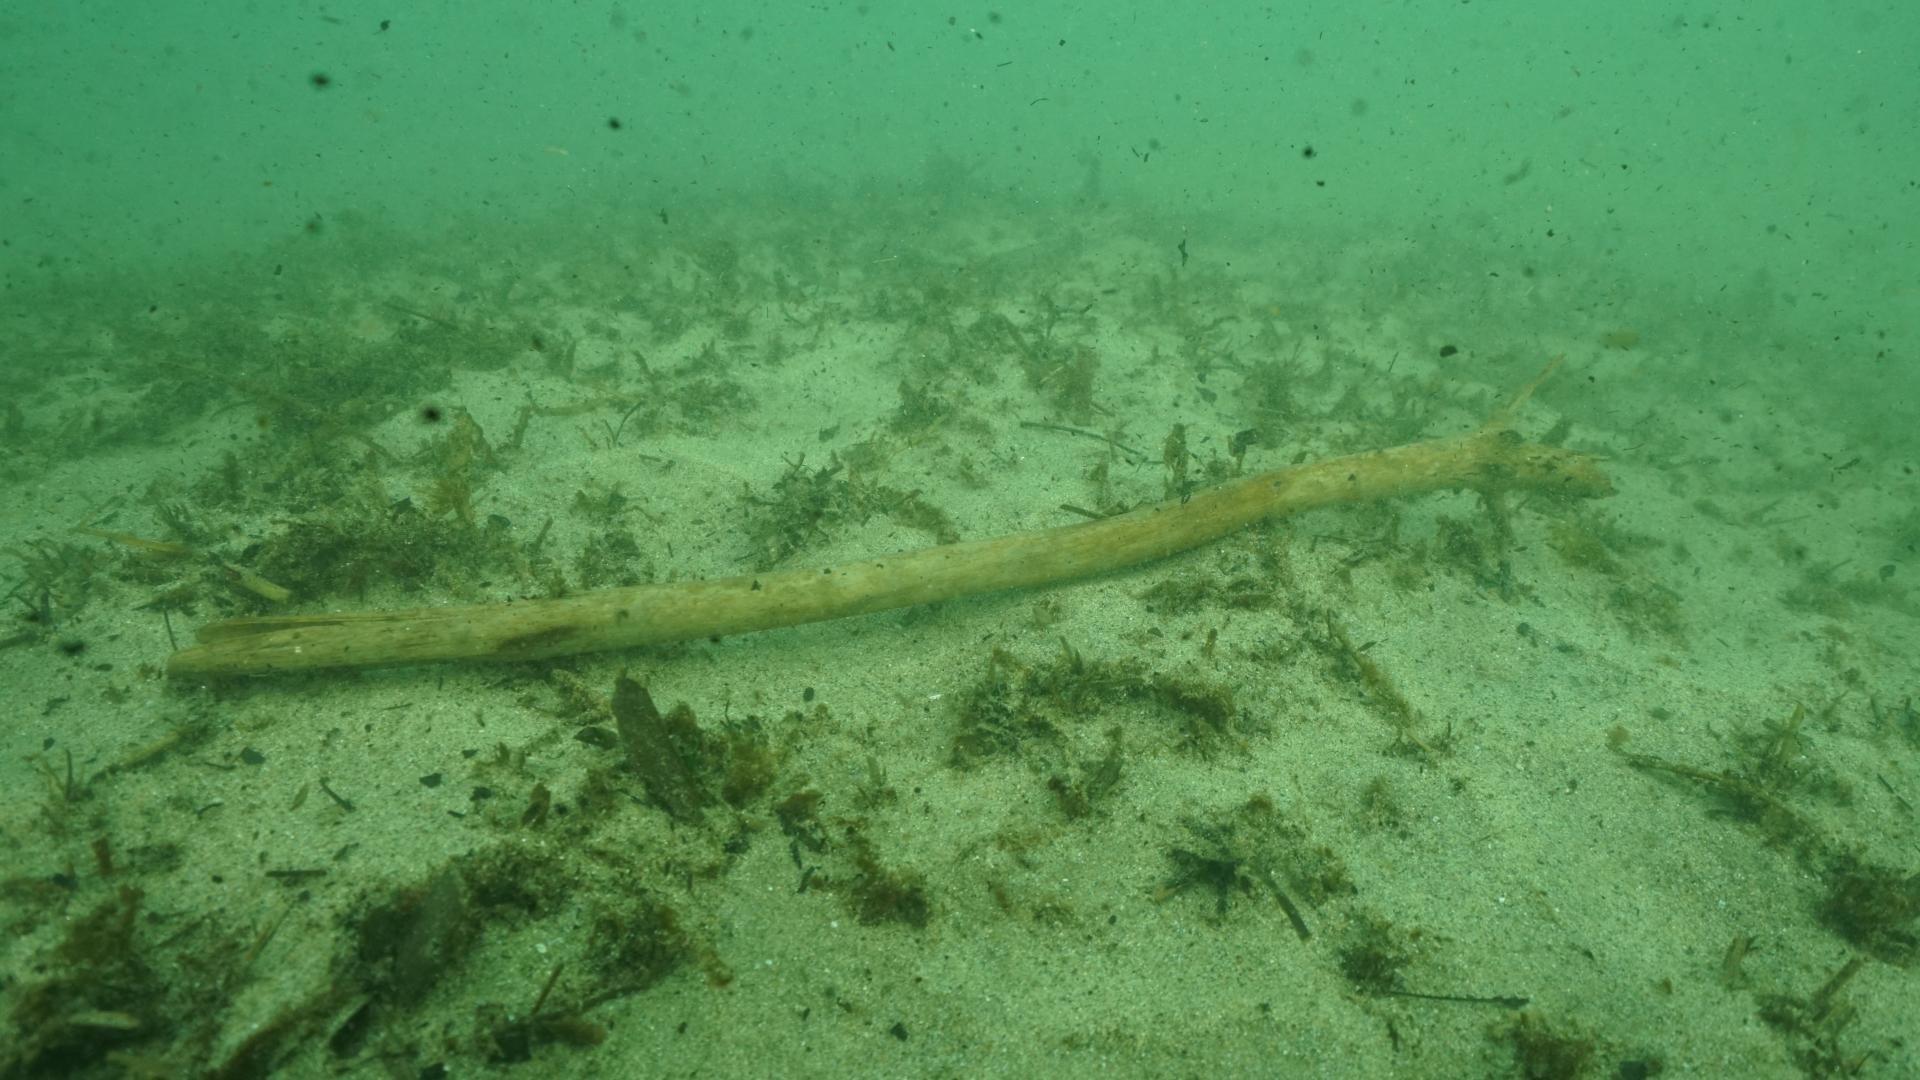wood: (164, 411, 1610, 682)
